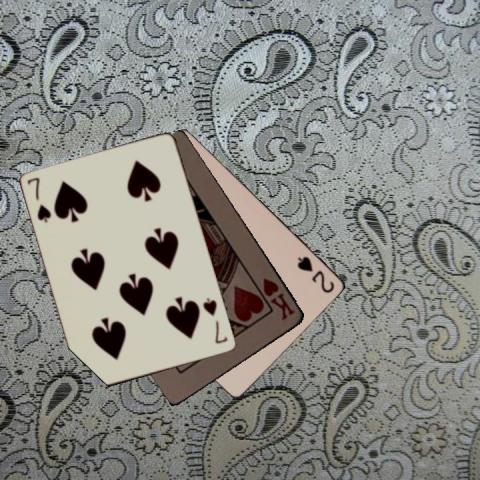2s: (295, 253, 336, 295)
7s: (200, 294, 229, 345), (25, 174, 53, 225)
Kh: (259, 275, 297, 322)
